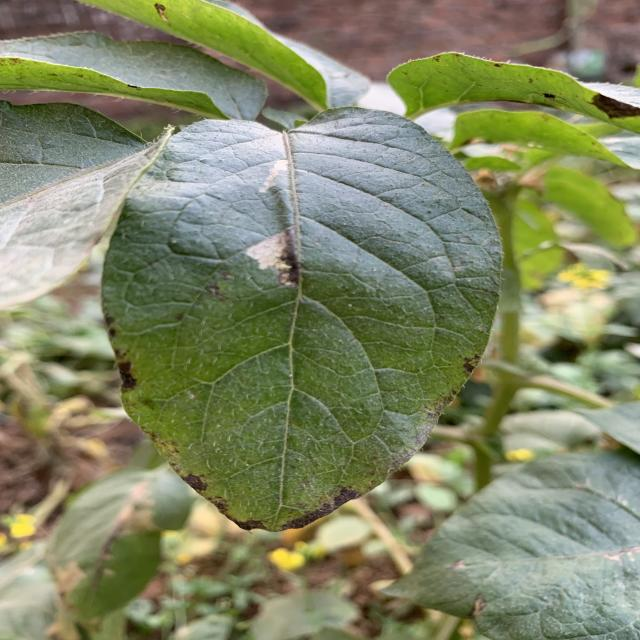lateblight: (228, 488, 363, 530), (245, 228, 298, 286), (183, 475, 205, 495), (213, 501, 228, 514)
